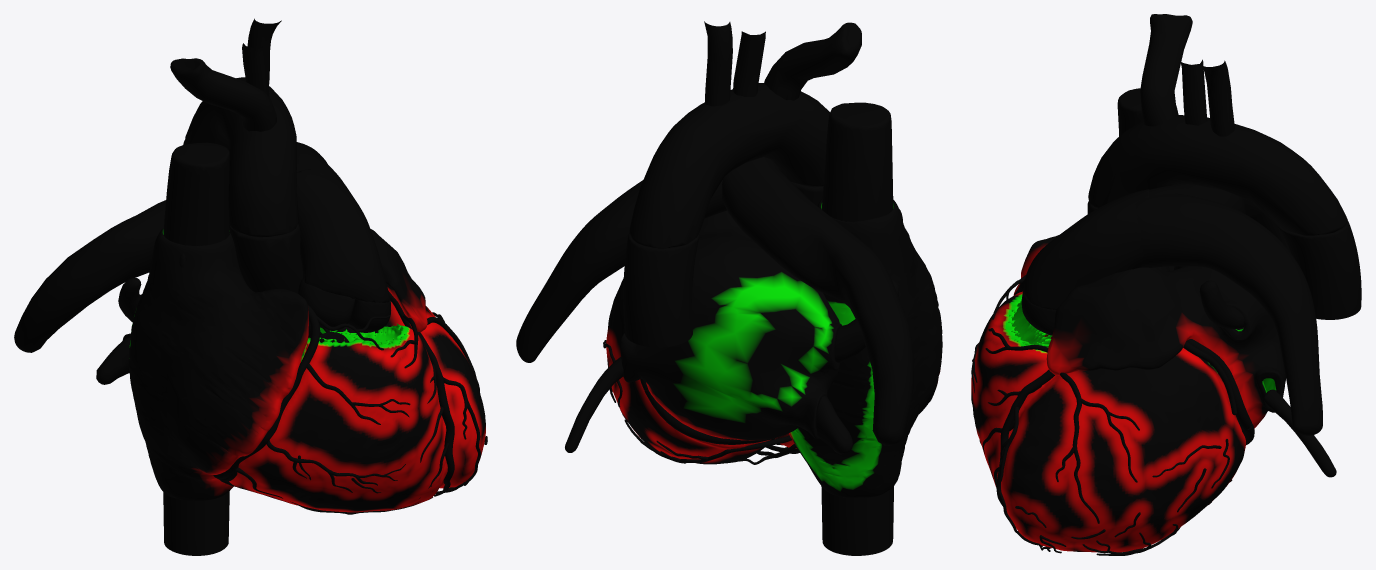
The model's file is heart-anatomy.glb.
The picture shows the model from 3 angles, left to right: view 1: azimuth 30°, elevation 25°; view 2: azimuth 150°, elevation 25°; view 3: azimuth 270°, elevation 25°; orthographic projection. The views are drawn at different scales.
Visible parts, largest first — view 1: right-atrium, right-ventricle, aorta, pulmonary-trunk, superior-vena-cava, left-ventricle, inferior-vena-cava, left-coronary, right-coronary, pulmonary-valve, left-atrium, pulmonary-veins (+2 smaller); view 2: aorta, left-atrium, pulmonary-trunk, right-atrium, superior-vena-cava, left-ventricle, inferior-vena-cava, pulmonary-veins, right-coronary, cardiac-veins; view 3: left-ventricle, aorta, pulmonary-trunk, left-atrium, right-ventricle, left-coronary, pulmonary-veins, right-coronary, cardiac-veins, superior-vena-cava, pulmonary-valve.
Boxes of the visible parts, x1=… form: right-atrium: x1=128, y1=227, x2=308, y2=500; right-ventricle: x1=229, y1=323, x2=445, y2=512; aorta: x1=170, y1=18, x2=302, y2=293; pulmonary-trunk: x1=14, y1=142, x2=389, y2=352; superior-vena-cava: x1=163, y1=142, x2=229, y2=245; left-ventricle: x1=308, y1=301, x2=485, y2=488; inferior-vena-cava: x1=163, y1=491, x2=229, y2=555; left-coronary: x1=388, y1=291, x2=487, y2=498; right-coronary: x1=213, y1=305, x2=457, y2=496; pulmonary-valve: x1=298, y1=279, x2=390, y2=332; left-atrium: x1=122, y1=229, x2=427, y2=340; pulmonary-veins: x1=96, y1=278, x2=141, y2=384; aorta: x1=623, y1=21, x2=861, y2=347; left-atrium: x1=620, y1=210, x2=841, y2=440; pulmonary-trunk: x1=516, y1=157, x2=913, y2=445; right-atrium: x1=789, y1=199, x2=942, y2=497; superior-vena-cava: x1=822, y1=102, x2=893, y2=222; left-ventricle: x1=606, y1=280, x2=774, y2=464; inferior-vena-cava: x1=821, y1=486, x2=893, y2=555; pulmonary-veins: x1=565, y1=279, x2=898, y2=454; right-coronary: x1=624, y1=419, x2=799, y2=464; cardiac-veins: x1=640, y1=379, x2=770, y2=444; left-ventricle: x1=1001, y1=348, x2=1245, y2=552; aorta: x1=1087, y1=14, x2=1361, y2=319; pulmonary-trunk: x1=1023, y1=183, x2=1322, y2=435; left-atrium: x1=1046, y1=266, x2=1285, y2=428; right-ventricle: x1=971, y1=291, x2=1051, y2=486; left-coronary: x1=982, y1=328, x2=1237, y2=553; pulmonary-veins: x1=1199, y1=280, x2=1336, y2=477; right-coronary: x1=971, y1=275, x2=1232, y2=555; cardiac-veins: x1=1186, y1=339, x2=1254, y2=444; superior-vena-cava: x1=1117, y1=88, x2=1178, y2=184; pulmonary-valve: x1=1021, y1=288, x2=1056, y2=335.
Bounding box in the file's own units: 1.34 × 1.73 × 1.27.
